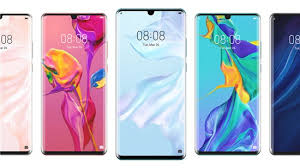huawei: (112, 6, 188, 165), (38, 11, 109, 158), (194, 10, 265, 157)
